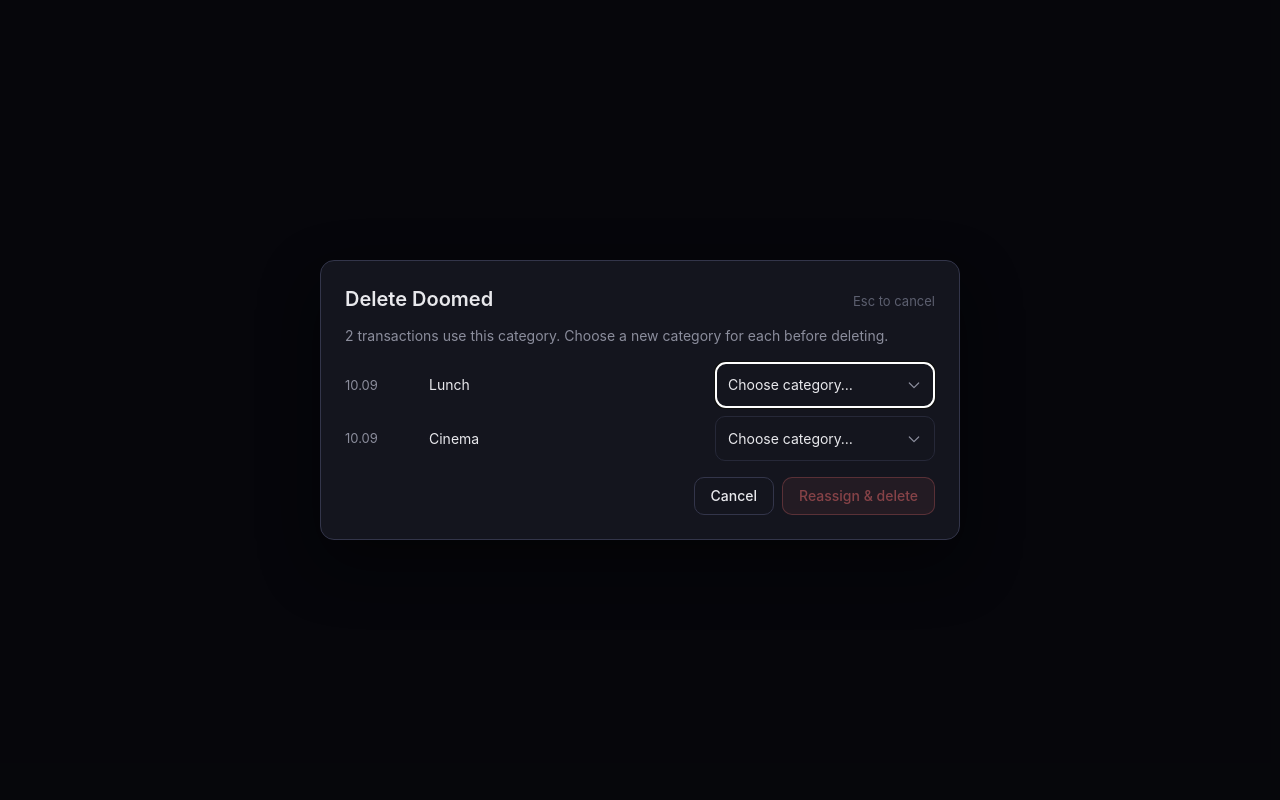
Test: CategoryReassignDialog › a rejected confirm shows an inline error
Click the button "Choose category…" in the row of "Lunch": (825, 385) [715,362,935,408]
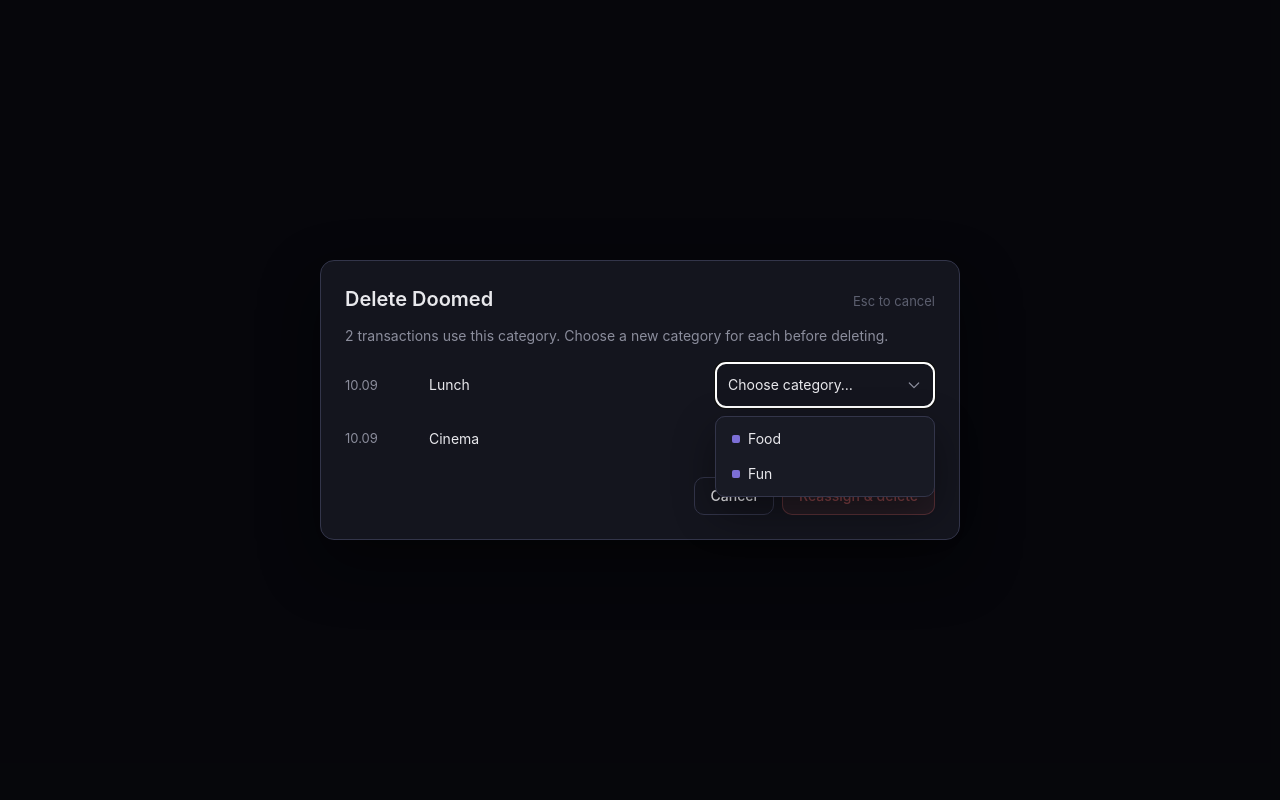
Click the option "Food": (825, 438) [720,421,930,456]
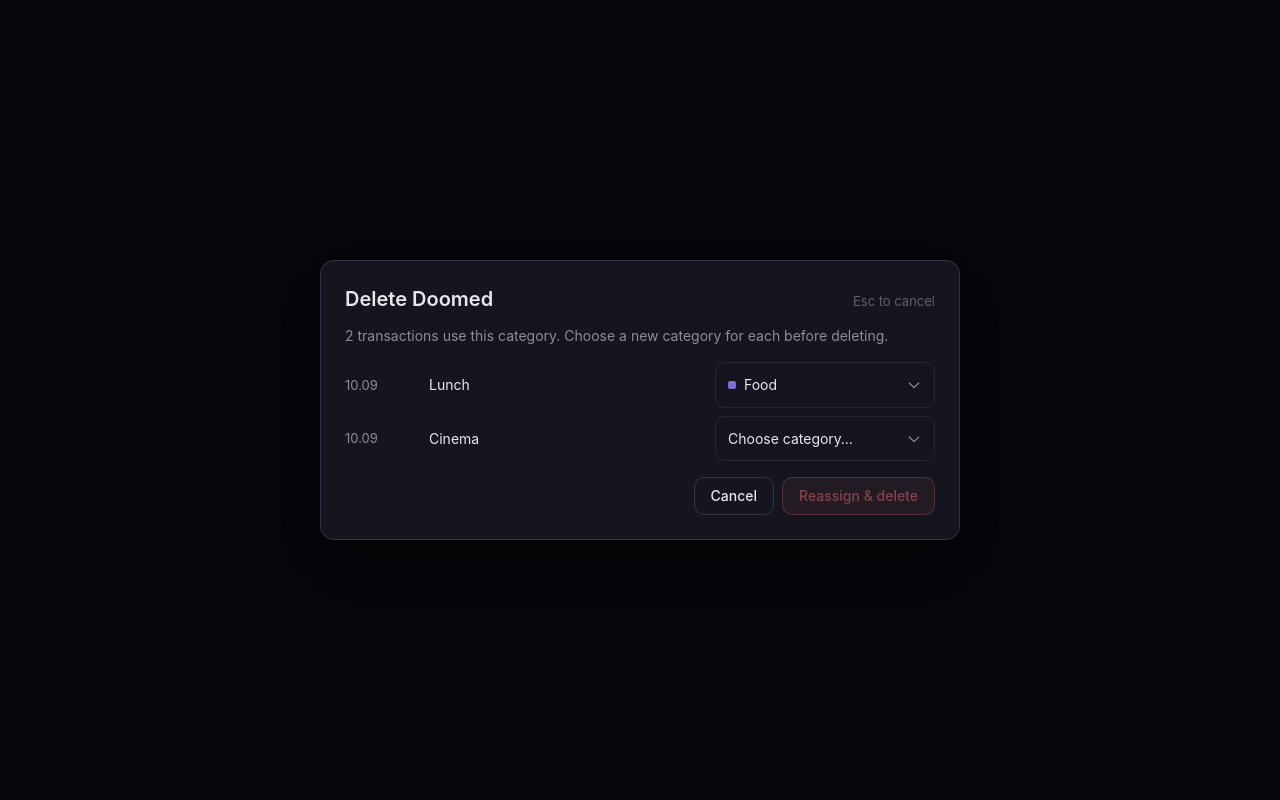
Click the button "Choose category…": (825, 438) [715,416,935,461]
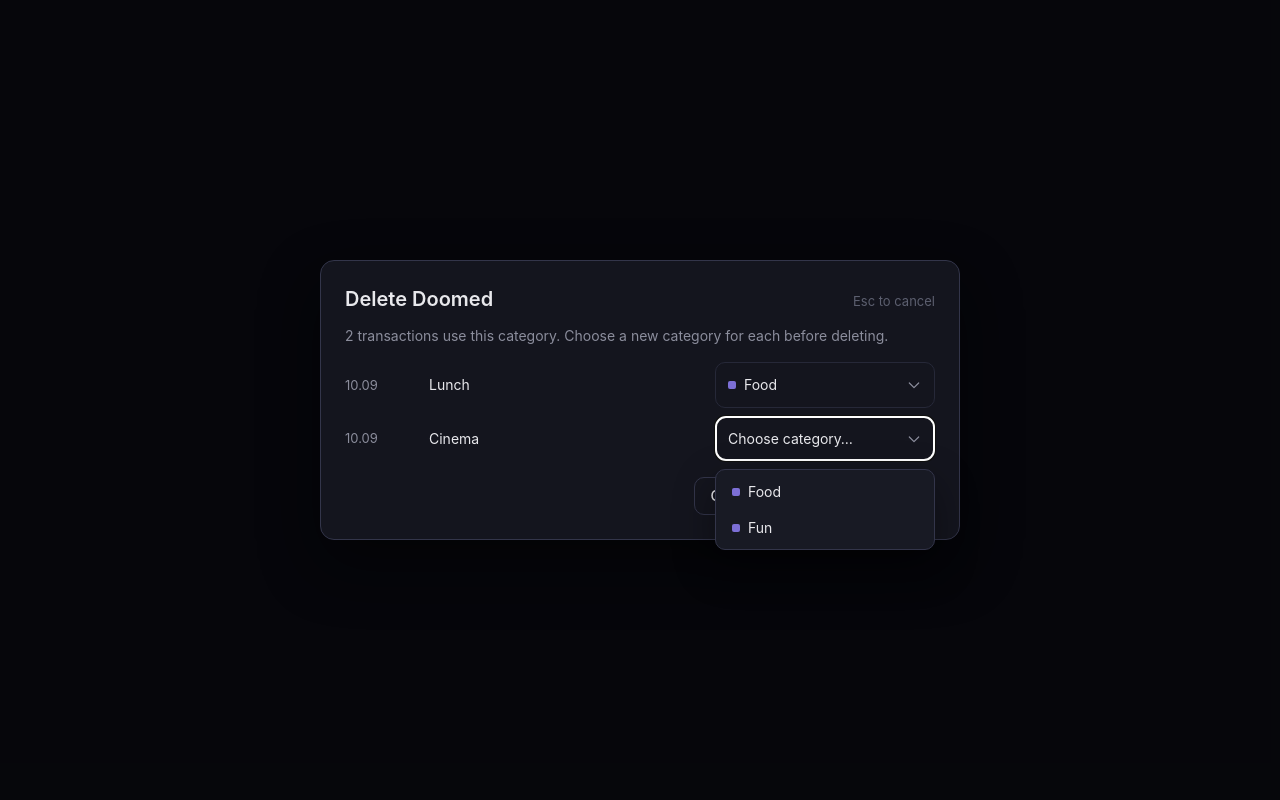
Click the option "Food": (825, 492) [720,474,930,510]
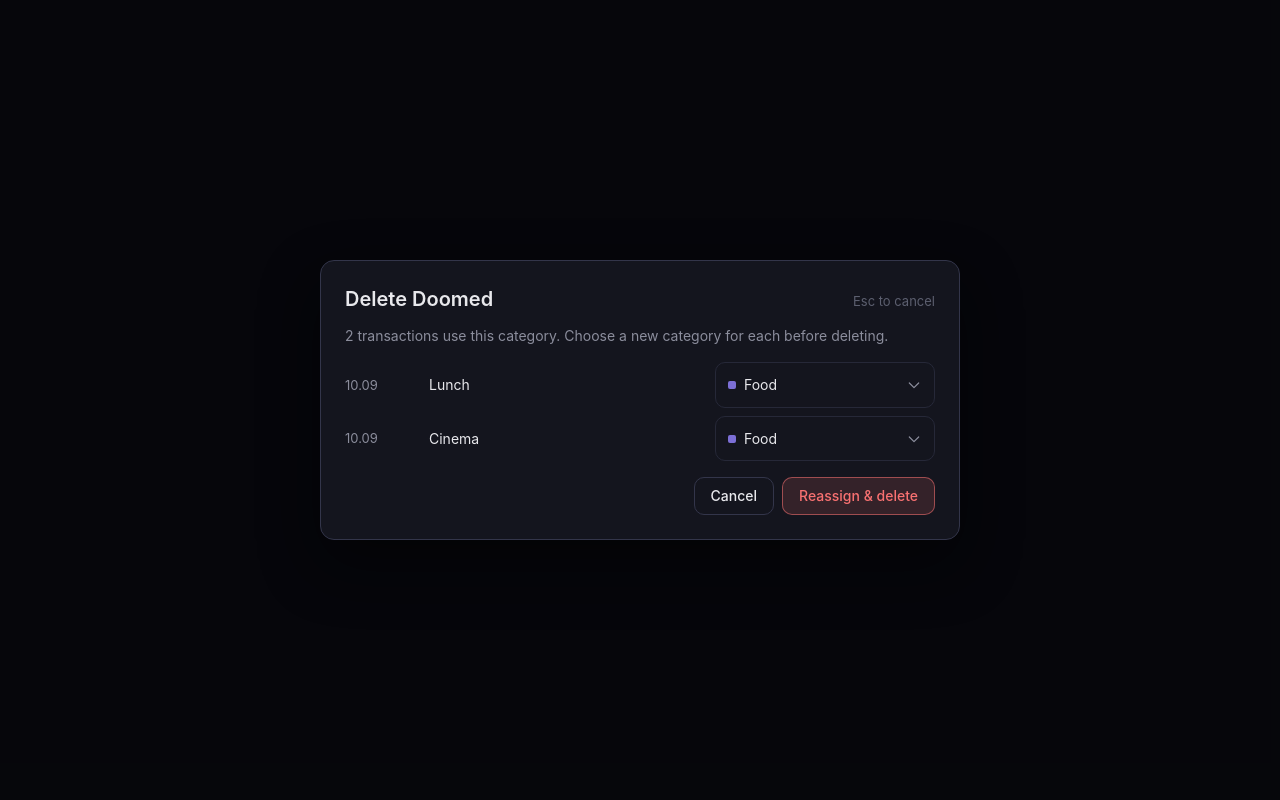
Click the button "Reassign & delete": (858, 496) [782,477,935,515]
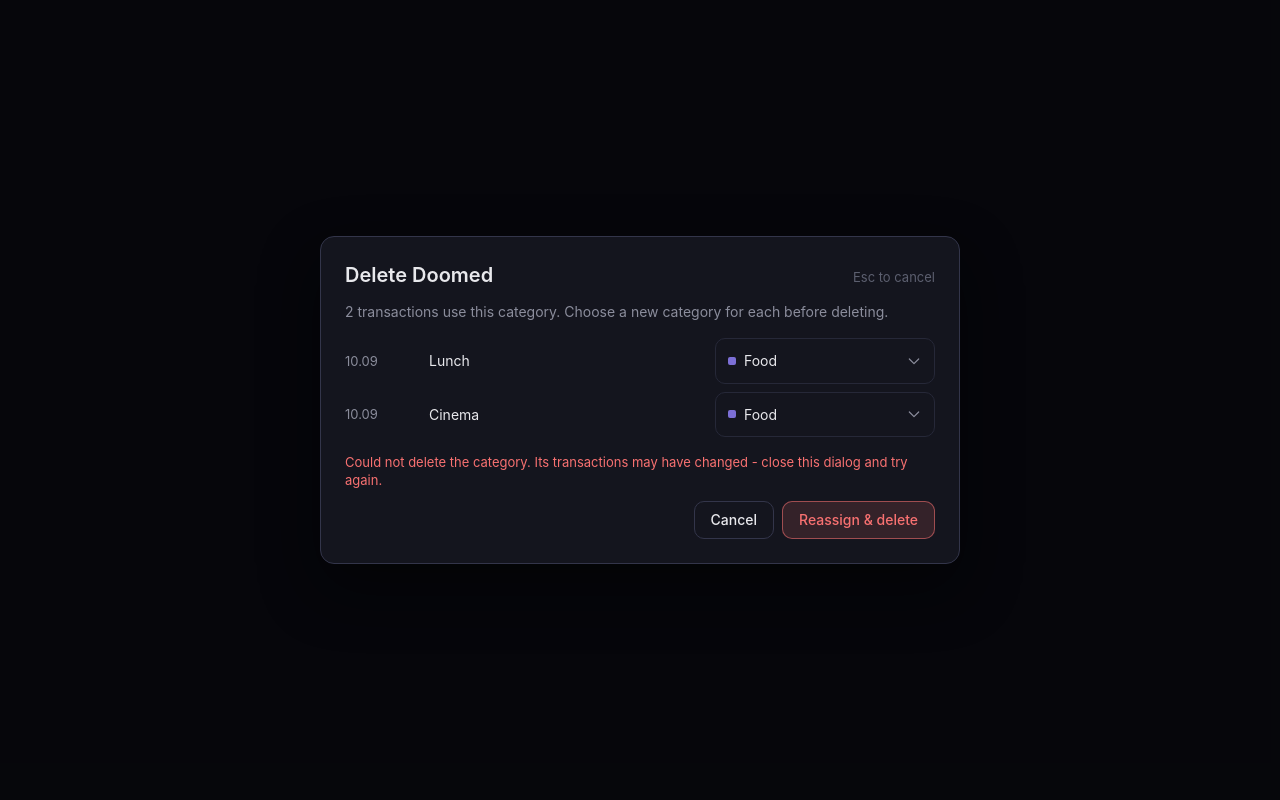
Expected: the text "Could not delete the category" is shown, [345,454,908,488]
